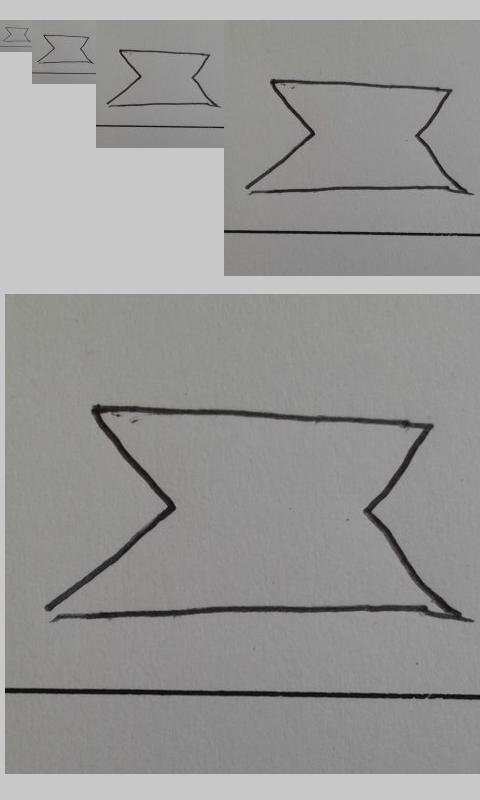edit_text: (45, 400, 458, 624), (244, 77, 469, 196), (107, 48, 215, 108), (37, 34, 92, 64), (3, 26, 29, 43)
